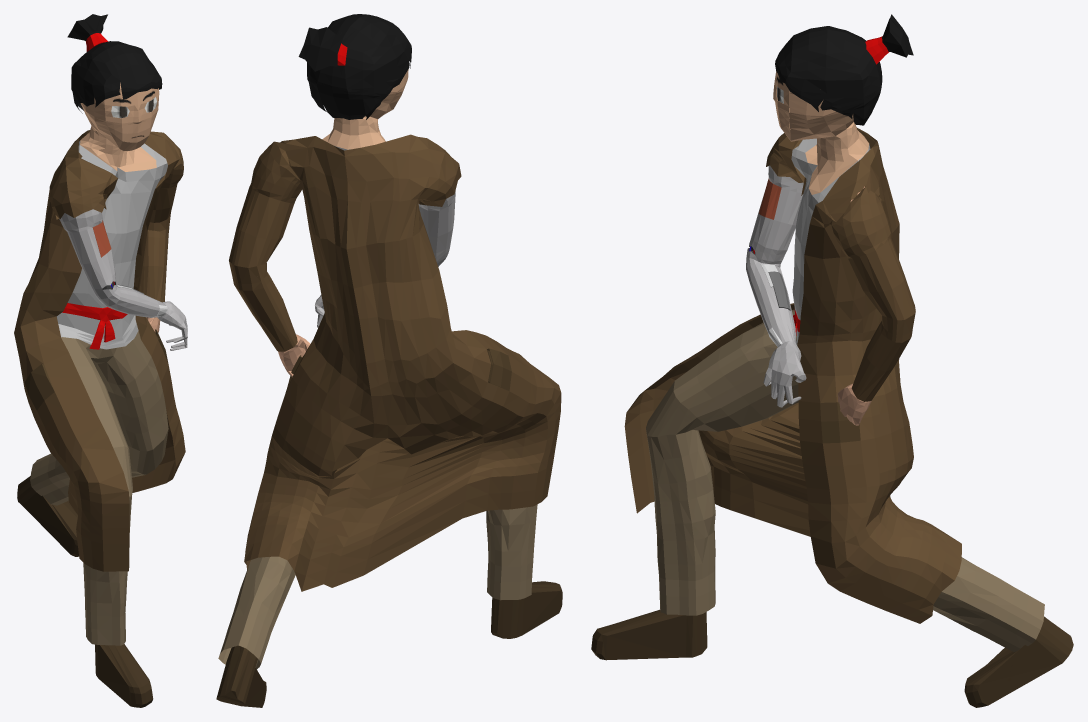
The model's file is One_RR_000020.obj.
3 views of the same model, side by side, from view 1: azimuth 30°, elevation 25°; view 2: azimuth 150°, elevation 25°; view 3: azimuth 270°, elevation 25° (orthographic). The views are drawn at different scales.
Parts seen in each view (by area): view 1: Hair_Cube.004; view 2: Hair_Cube.004; view 3: Hair_Cube.004.
Part boxes in pixels (x1,y1,x2,y2): Hair_Cube.004: (14,14,187,707); Hair_Cube.004: (216,14,562,707); Hair_Cube.004: (591,14,1073,707).
Bounding box in the file's own units: 1.21 × 3.56 × 2.29.
